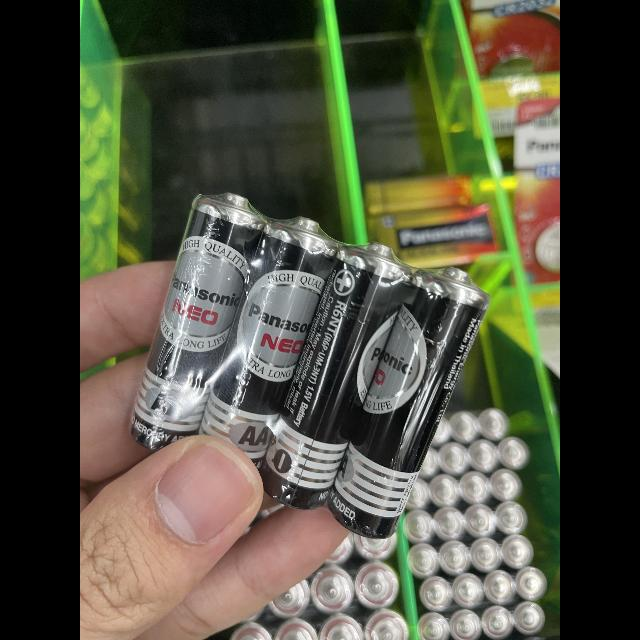battery: (328, 264, 490, 540), (258, 235, 414, 501), (128, 186, 268, 452), (198, 220, 336, 468)
